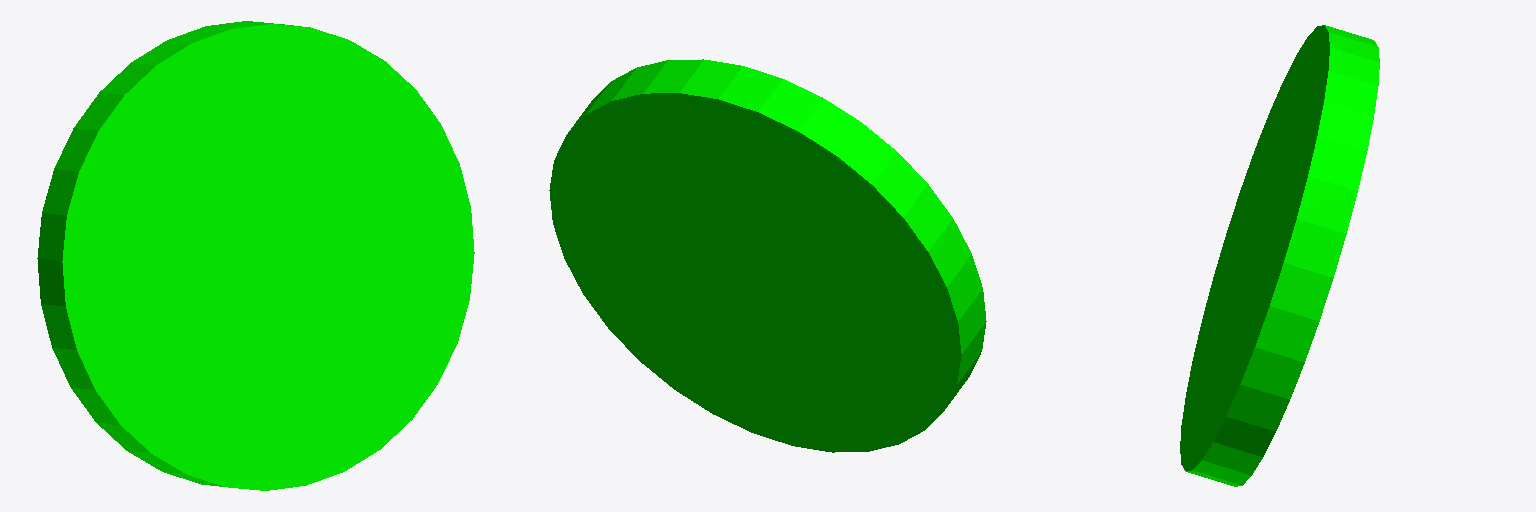
The model's file is engBtn.obj.
3 views of the same model, side by side, from view 1: azimuth 30°, elevation 25°; view 2: azimuth 150°, elevation 25°; view 3: azimuth 270°, elevation 25° (orthographic).
Parts seen in each view (by area): view 1: Cube.015_Cube.017; view 2: Cube.015_Cube.017; view 3: Cube.015_Cube.017.
Part boxes in pixels (x1,y1,x2,y2): Cube.015_Cube.017: (37, 21, 474, 490); Cube.015_Cube.017: (549, 59, 986, 452); Cube.015_Cube.017: (1180, 25, 1379, 486).
Bounding box in the file's own units: 0.006 × 0.0059 × 0.0026.